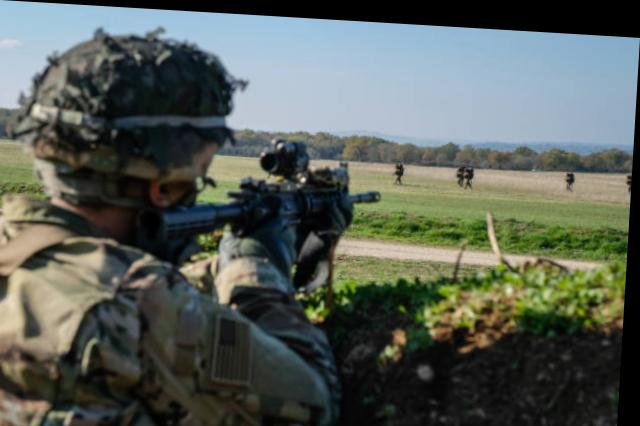other: (0, 38, 301, 424), (565, 152, 582, 188), (390, 152, 410, 182), (615, 159, 633, 190), (465, 156, 484, 181), (453, 157, 466, 177)
